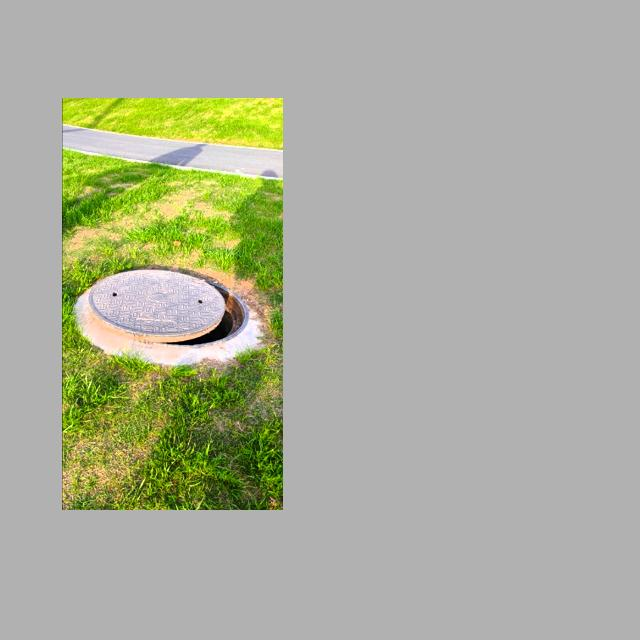uncovered: (86, 267, 251, 349)
